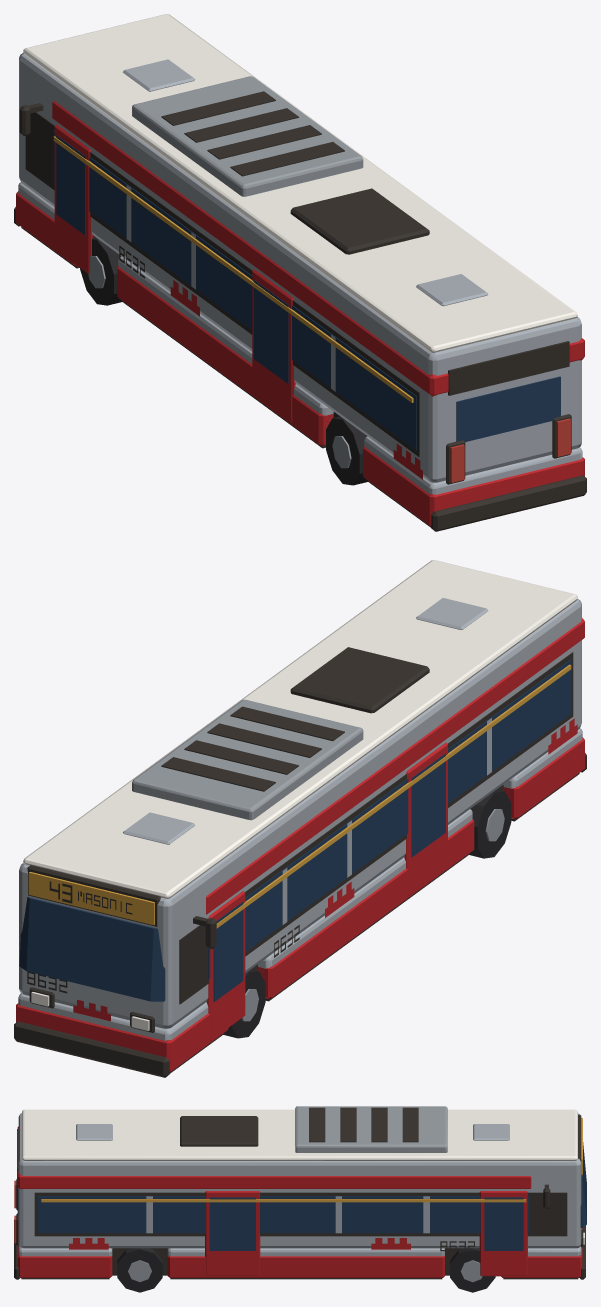
Rendered from muni-bus-40-43-masonic.glb.
3 renders of one model, top to bottom at view 1: azimuth 30°, elevation 25°; view 2: azimuth 150°, elevation 25°; view 3: azimuth 270°, elevation 25°, orthographic. The views are drawn at different scales.
Parts seen in each view (by area): view 1: Toy_silver, Toy_white, Toy_munired, Toy_ink, Toy_glass, Toy_steel, Toy_tire, Toy_mustard_Glow, Toy_red_Glow; view 2: Toy_white, Toy_silver, Toy_glass, Toy_munired, Toy_ink, Toy_steel, Toy_mustard_Glow, Toy_tire; view 3: Toy_silver, Toy_munired, Toy_white, Toy_glass, Toy_ink, Toy_steel, Toy_tire, Toy_mustard_Glow.
Boxes of the visible parts, bbox=[...] form: Toy_silver: bbox=[18, 52, 582, 494]; Toy_white: bbox=[23, 14, 577, 352]; Toy_munired: bbox=[16, 101, 584, 526]; Toy_ink: bbox=[14, 91, 586, 531]; Toy_glass: bbox=[53, 130, 560, 450]; Toy_steel: bbox=[88, 76, 363, 468]; Toy_tire: bbox=[80, 236, 367, 485]; Toy_mustard_Glow: bbox=[53, 136, 413, 402]; Toy_red_Glow: bbox=[450, 418, 570, 482]; Toy_white: bbox=[23, 560, 577, 898]; Toy_silver: bbox=[18, 598, 582, 1040]; Toy_glass: bbox=[19, 659, 571, 1001]; Toy_munired: bbox=[16, 618, 584, 1072]; Toy_ink: bbox=[14, 647, 586, 1077]; Toy_steel: bbox=[132, 699, 504, 1021]; Toy_mustard_Glow: bbox=[28, 664, 571, 928]; Toy_tire: bbox=[223, 789, 511, 1038]; Toy_silver: bbox=[18, 1113, 581, 1256]; Toy_munired: bbox=[17, 1126, 582, 1277]; Toy_white: bbox=[22, 1109, 577, 1160]; Toy_glass: bbox=[17, 1142, 586, 1250]; Toy_ink: bbox=[14, 1107, 585, 1279]; Toy_steel: bbox=[128, 1106, 482, 1282]; Toy_tire: bbox=[117, 1248, 495, 1292]; Toy_mustard_Glow: bbox=[41, 1118, 582, 1202].
Size of the model in its own units: 3.3 by 3.42 by 12.41.
